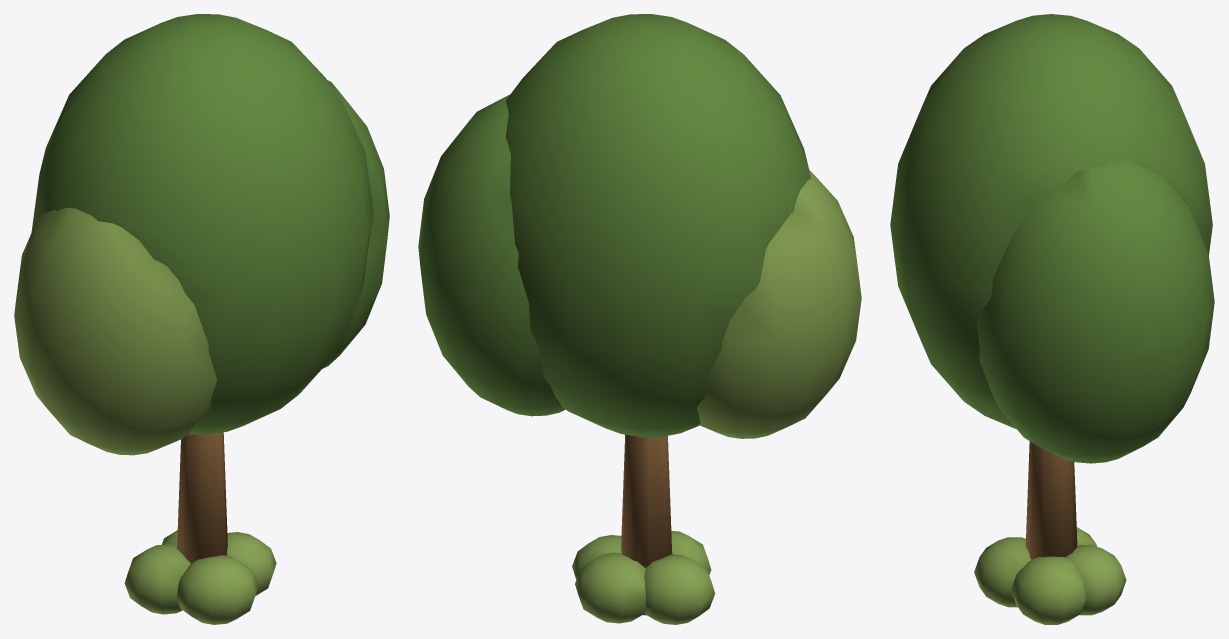
Rendered from tree_1.glb.
3 views of the same model, side by side, from view 1: azimuth 30°, elevation 25°; view 2: azimuth 150°, elevation 25°; view 3: azimuth 270°, elevation 25° (orthographic).
Parts seen in each view (by area): view 1: tree_1; view 2: tree_1; view 3: tree_1.
Part boxes in pixels (x1,y1,x2,y2): tree_1: [14, 14, 389, 624]; tree_1: [418, 14, 861, 624]; tree_1: [890, 14, 1214, 624].
Size of the model in its own units: 1.87 by 2.75 by 1.4.
